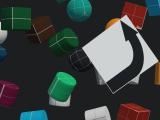Left: (82, 15, 159, 94)
